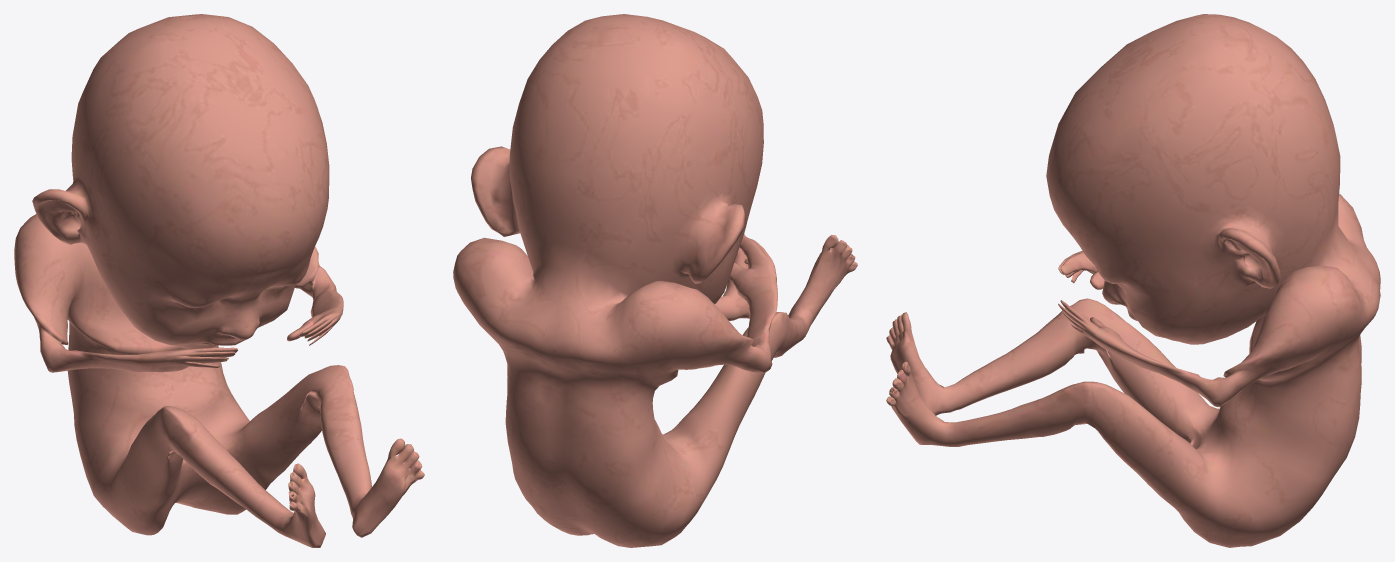
3 renders of one model, left to right at view 1: azimuth 30°, elevation 25°; view 2: azimuth 150°, elevation 25°; view 3: azimuth 270°, elevation 25°, orthographic.
Visible parts, largest first — view 1: Baby; view 2: Baby; view 3: Baby.
Part boxes in pixels (x1,y1,x2,y2): Baby: [14, 14, 424, 547]; Baby: [453, 14, 857, 547]; Baby: [886, 14, 1380, 547].
Size of the model in its own units: 0.0524 by 0.087 by 0.0778.
1 material, 1 textured.
